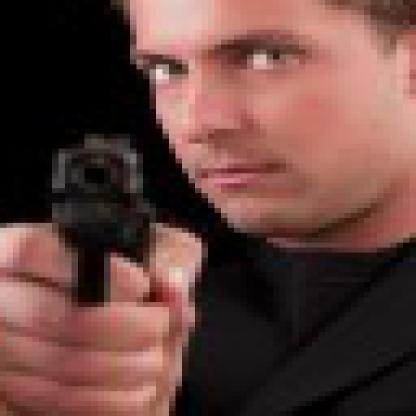gun: (20, 119, 188, 327)
